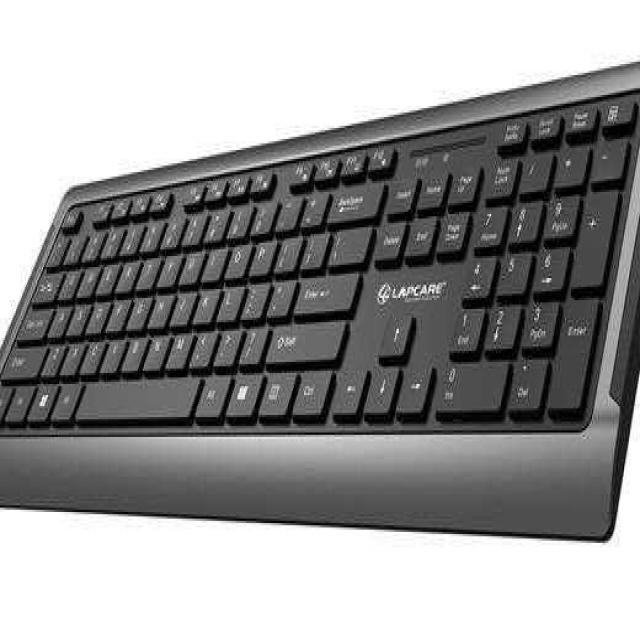keyboard: (0, 52, 640, 545)
